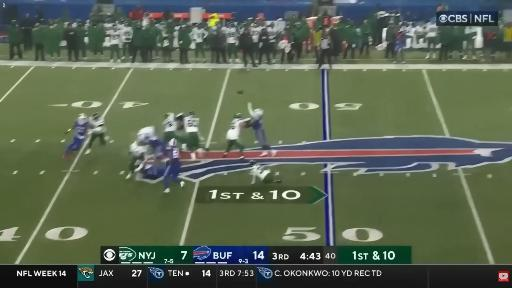Helmet: (168, 138, 177, 147), (79, 114, 87, 121), (251, 160, 257, 169), (255, 110, 265, 115), (235, 114, 242, 120), (190, 112, 196, 117)
Jersey: (136, 165, 165, 183), (227, 119, 243, 140), (138, 127, 157, 144), (129, 141, 147, 158), (251, 164, 270, 180), (74, 119, 89, 139), (166, 144, 179, 166), (89, 117, 105, 134), (185, 116, 199, 132), (192, 28, 207, 42), (163, 114, 175, 131), (251, 114, 263, 130), (122, 26, 133, 42), (267, 28, 279, 42), (109, 30, 120, 45), (251, 27, 261, 42), (227, 28, 237, 43), (162, 31, 170, 47), (104, 23, 113, 33), (220, 27, 228, 34)
Player: (248, 103, 276, 156), (63, 114, 89, 159), (223, 114, 249, 158), (164, 139, 184, 193), (184, 111, 205, 160), (137, 126, 165, 157), (86, 113, 107, 154), (126, 141, 147, 179), (250, 160, 280, 184), (227, 22, 240, 63), (135, 164, 165, 181), (108, 24, 121, 62), (267, 22, 279, 63), (250, 23, 262, 58), (175, 113, 186, 150), (163, 113, 176, 142)
